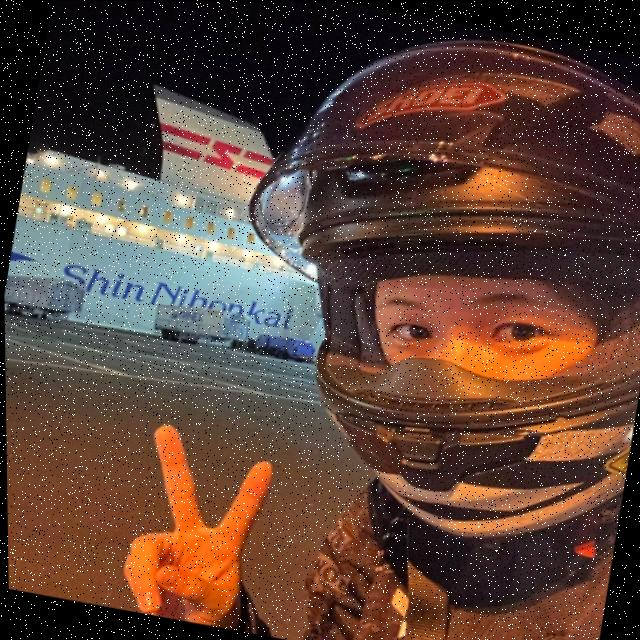helmet: (170, 1, 640, 580)
